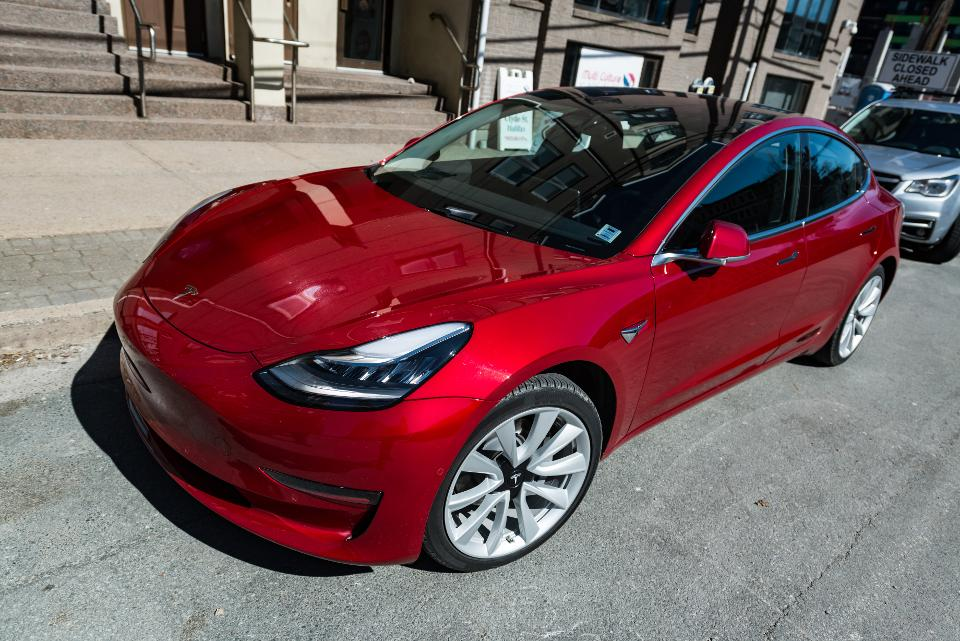car: (115, 86, 905, 556), (865, 94, 959, 262)
